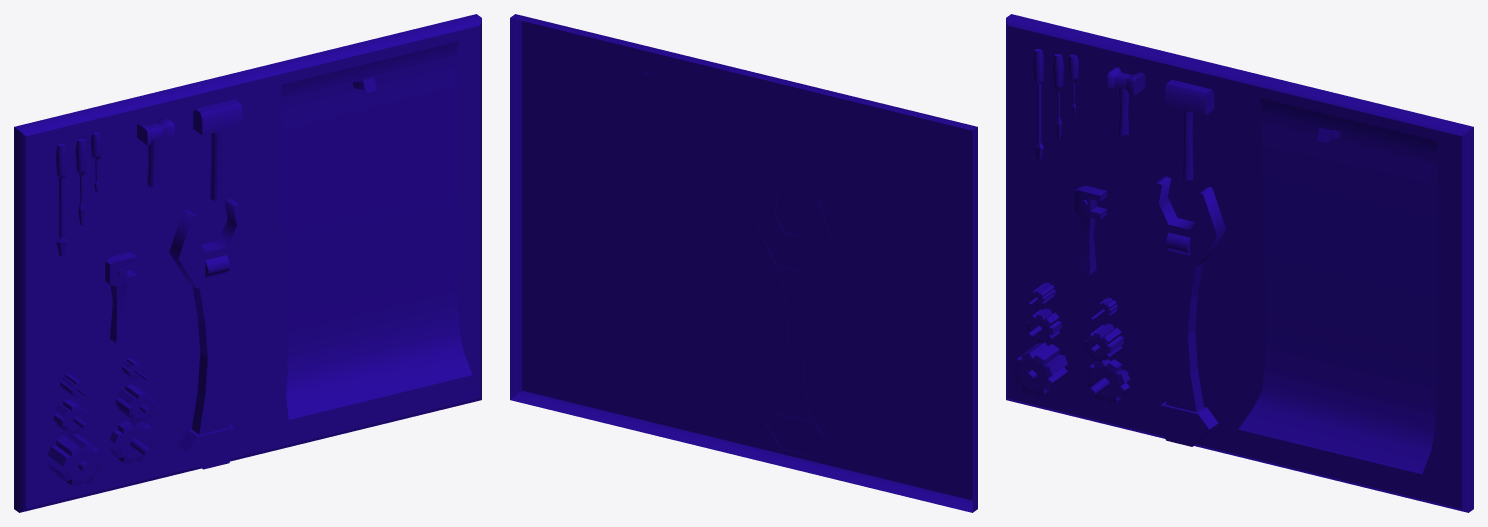
The model's file is CG_Model_TownInt_WorkTableBoard_Mar24_ChrisMcknight.FBX.
The picture shows the model from 3 angles, left to right: view 1: azimuth 30°, elevation 25°; view 2: azimuth 150°, elevation 25°; view 3: azimuth 330°, elevation 25°; orthographic projection.
Visible parts, largest first — view 1: Board; view 2: Board; view 3: Board.
Boxes of the visible parts, x1,y1,x2,y2 form: Board: [14, 14, 481, 512]; Board: [510, 14, 977, 512]; Board: [1006, 14, 1473, 512].
Bounding box in the file's own units: 32.39 × 25.57 × 3.4.
